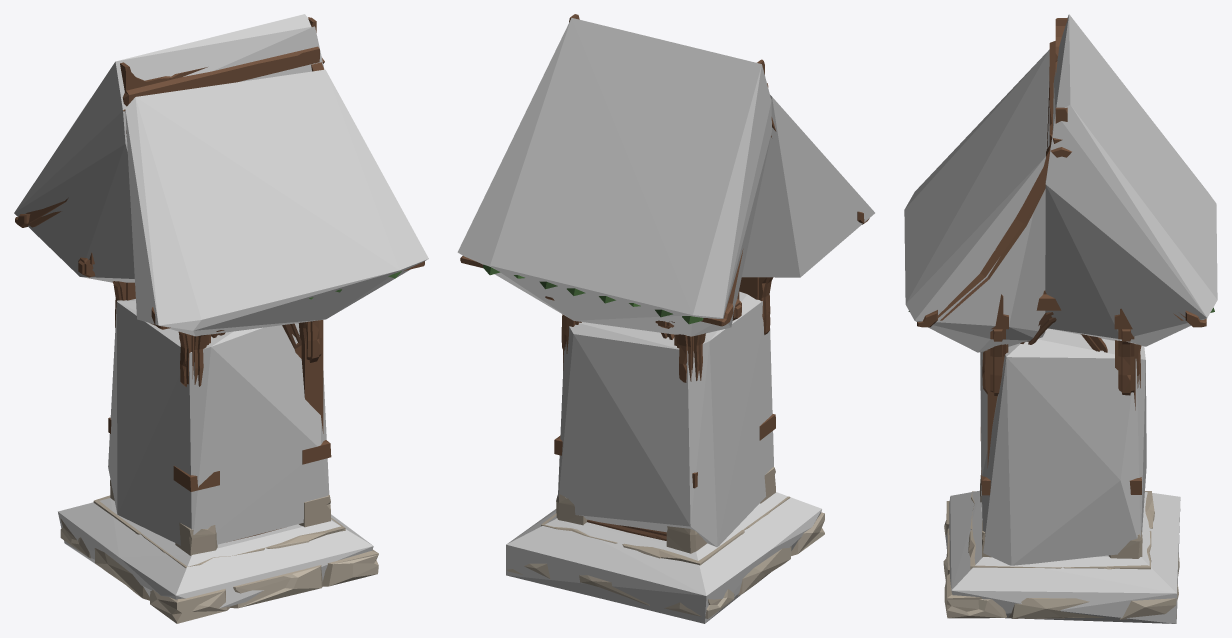
Rendered from SM_Prop_Garden_Hut_01.fbx.
3 renders of one model, left to right at view 1: azimuth 30°, elevation 25°; view 2: azimuth 150°, elevation 25°; view 3: azimuth 270°, elevation 25°, orthographic.
Visible parts, largest first — view 1: SM_Prop_Garden_Hut_01_ConvexHulls, SM_Prop_Garden_Hut_01; view 2: SM_Prop_Garden_Hut_01_ConvexHulls, SM_Prop_Garden_Hut_01; view 3: SM_Prop_Garden_Hut_01_ConvexHulls, SM_Prop_Garden_Hut_01.
Boxes of the visible parts, x1,y1,x2,y2 form: SM_Prop_Garden_Hut_01_ConvexHulls: [14, 14, 428, 608]; SM_Prop_Garden_Hut_01: [15, 17, 424, 623]; SM_Prop_Garden_Hut_01_ConvexHulls: [457, 18, 874, 623]; SM_Prop_Garden_Hut_01: [460, 14, 869, 618]; SM_Prop_Garden_Hut_01_ConvexHulls: [904, 14, 1217, 623]; SM_Prop_Garden_Hut_01: [908, 18, 1214, 619].
Size of the model in its own units: 283 by 289 by 524.
2 materials, 1 textured.
